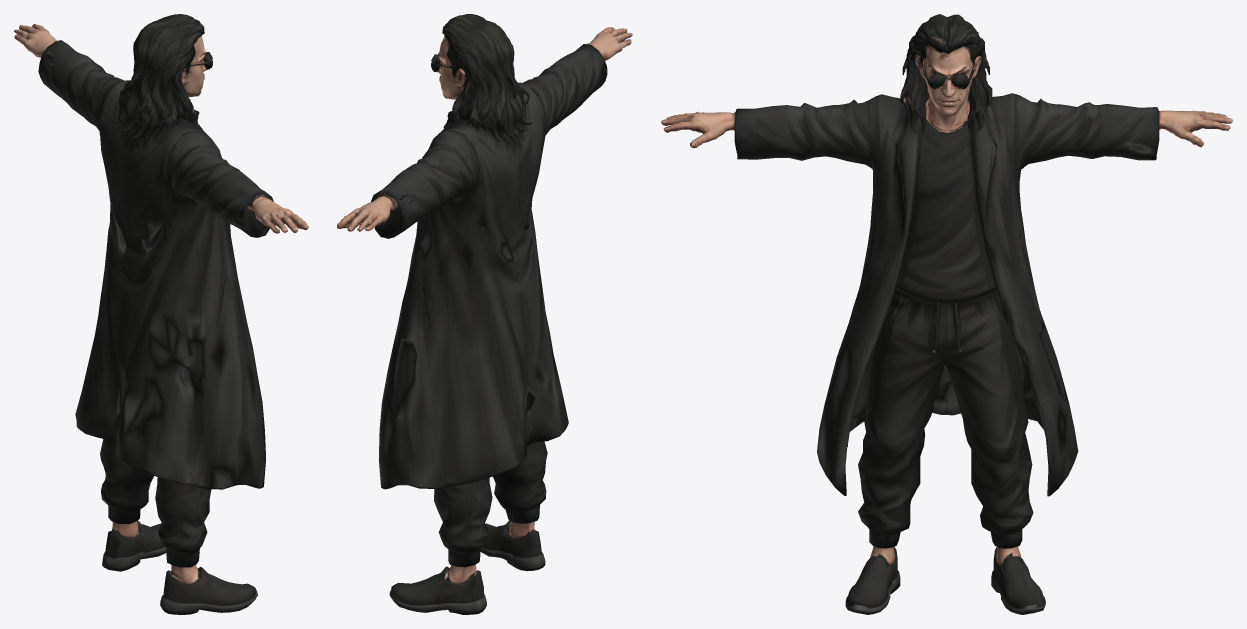
The model's file is stylized+human+character+3d+model.obj.
3 renders of one model, left to right at view 1: azimuth 30°, elevation 25°; view 2: azimuth 150°, elevation 25°; view 3: azimuth 270°, elevation 25°, orthographic. The views are drawn at different scales.
Parts seen in each view (by area): view 1: tripo_node_03ba2120-80a5-4ee1-9dd7-7f029239ed3f; view 2: tripo_node_03ba2120-80a5-4ee1-9dd7-7f029239ed3f; view 3: tripo_node_03ba2120-80a5-4ee1-9dd7-7f029239ed3f.
Boxes of the visible parts, x1,y1,x2,y2 form: tripo_node_03ba2120-80a5-4ee1-9dd7-7f029239ed3f: [14, 14, 308, 614]; tripo_node_03ba2120-80a5-4ee1-9dd7-7f029239ed3f: [337, 14, 632, 614]; tripo_node_03ba2120-80a5-4ee1-9dd7-7f029239ed3f: [661, 14, 1232, 614].
Size of the model in its own units: 0.2207 by 0.998 by 0.8965.
Materials: 1 (1 with a texture image).
